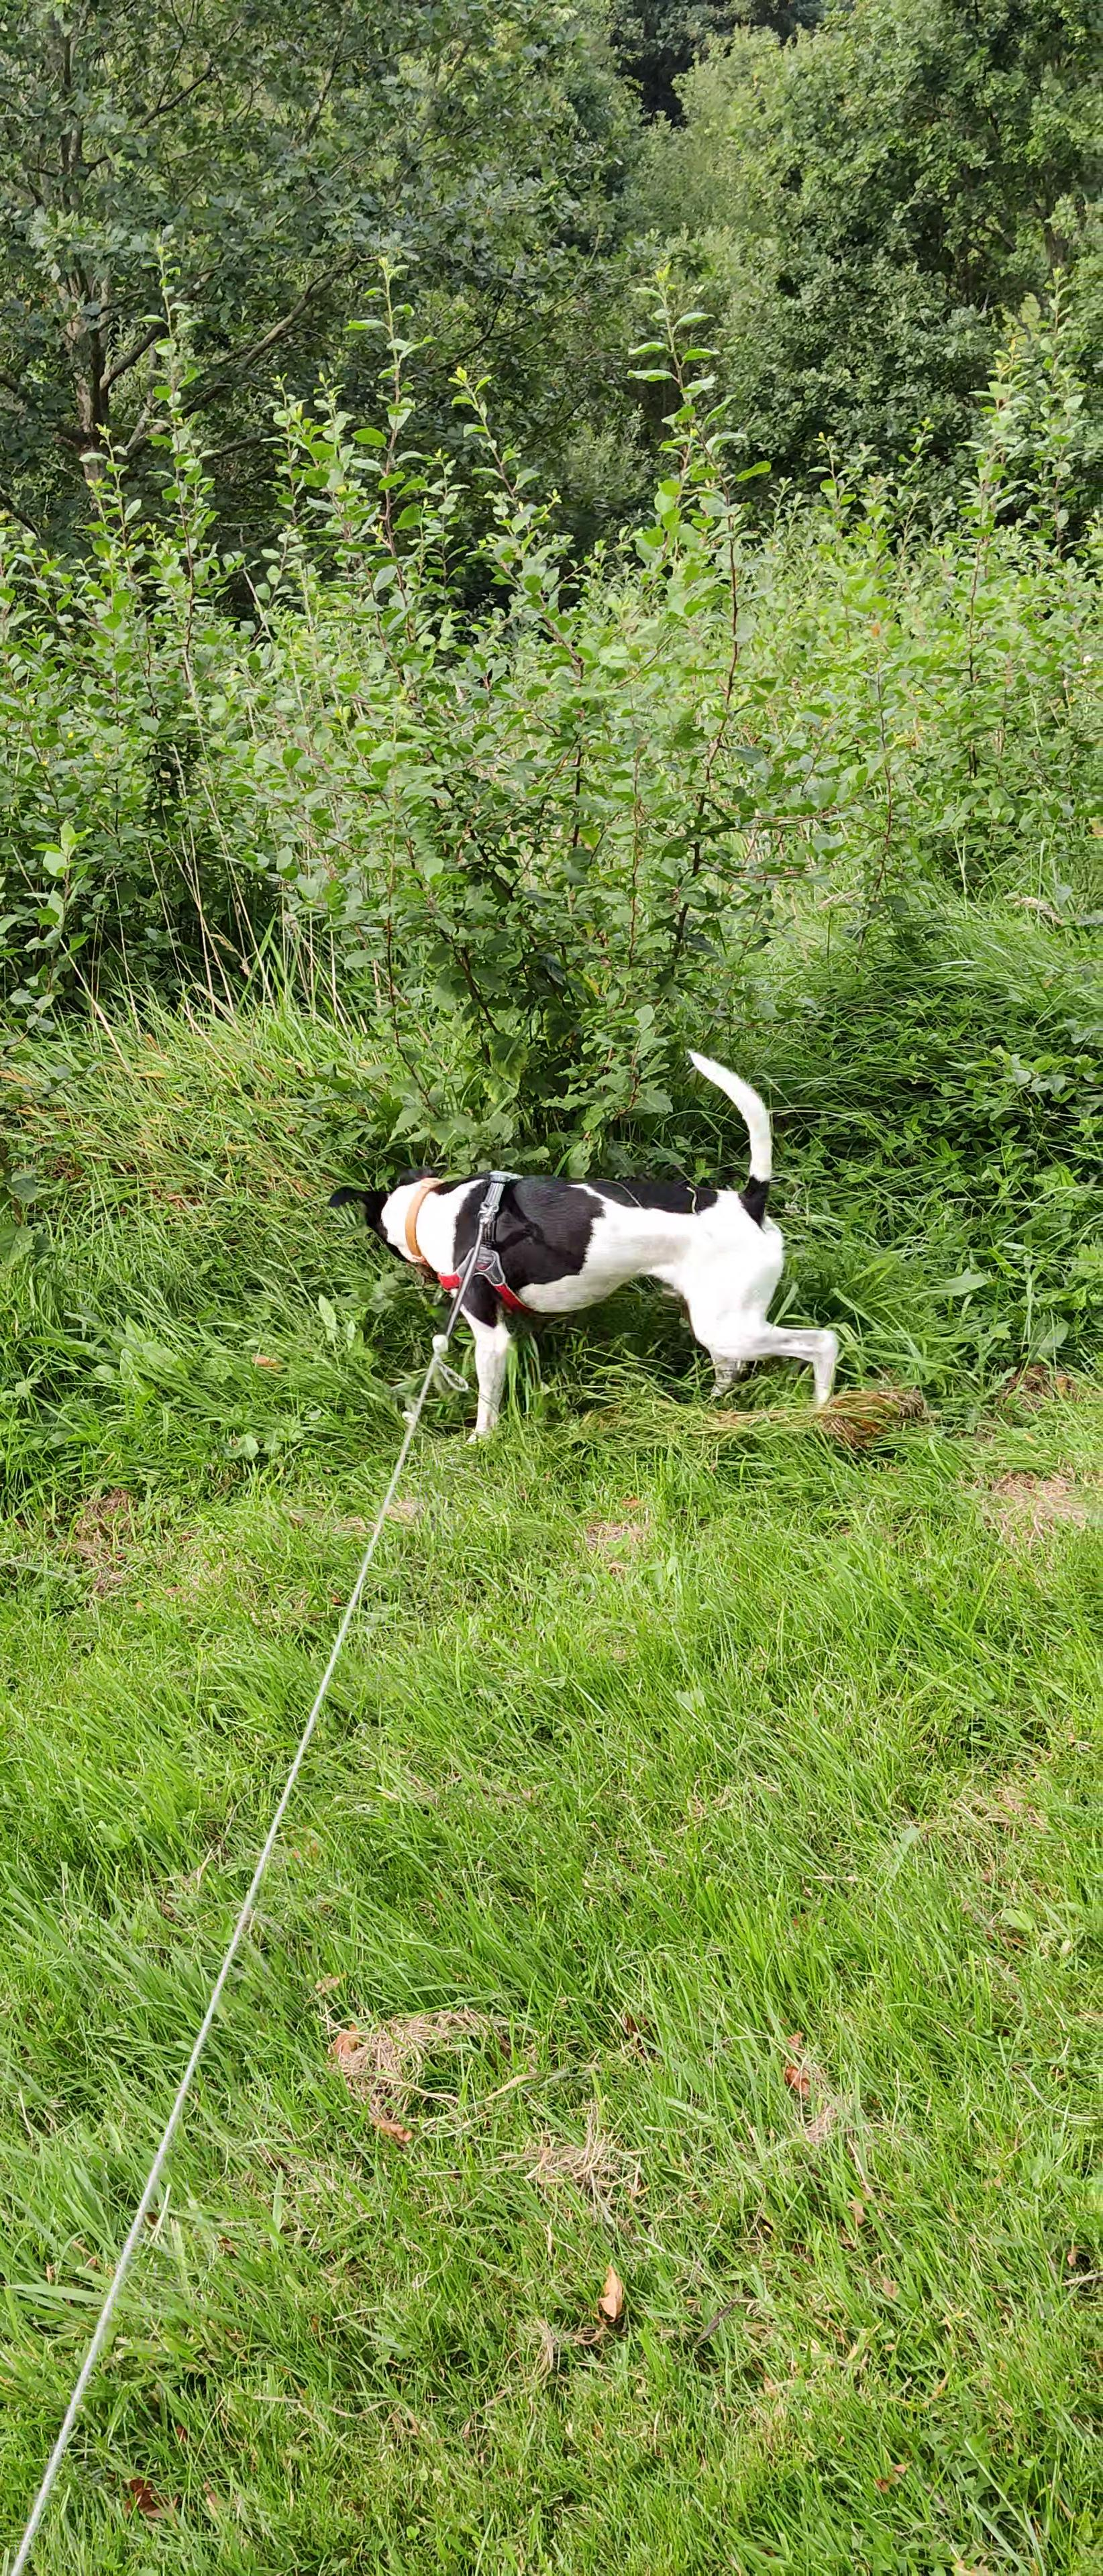Dog: (324, 1040, 847, 1447)
